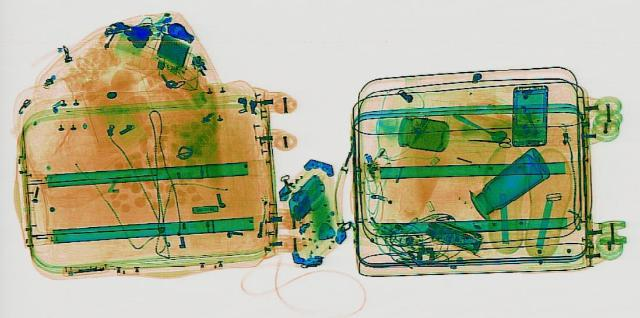Scissors: (464, 134, 512, 146)
